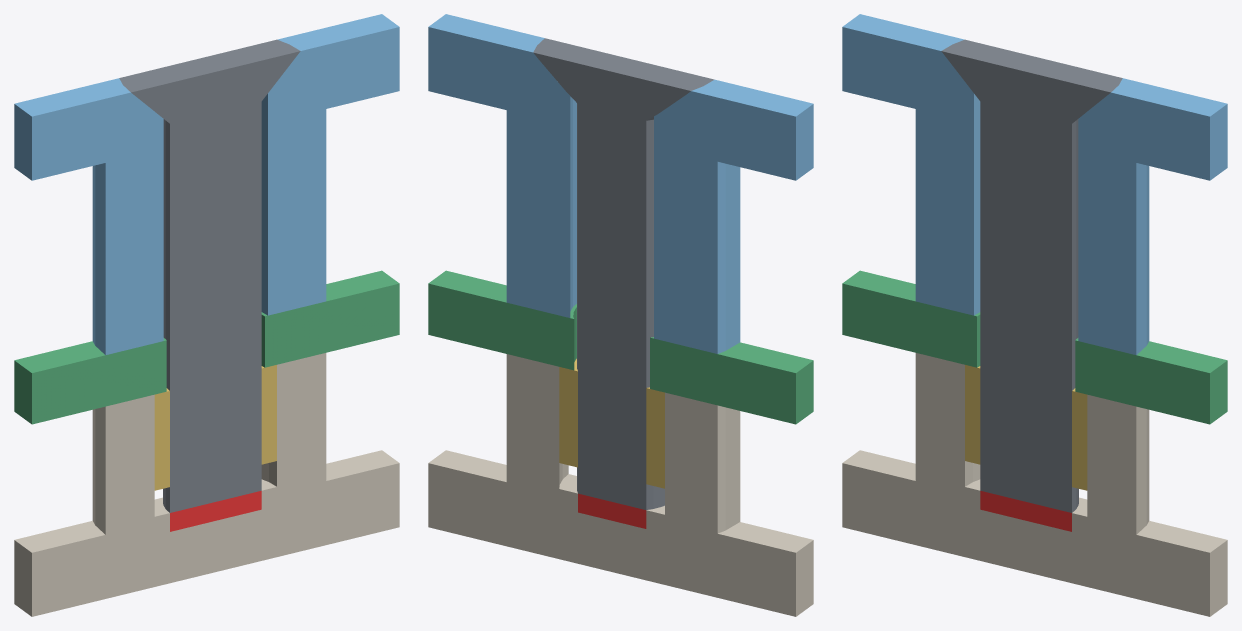
The model's file is countersunk-screw-clears-bore-floor.actual.glb.
3 renders of one model, left to right at view 1: azimuth 30°, elevation 25°; view 2: azimuth 150°, elevation 25°; view 3: azimuth 330°, elevation 25°, orthographic.
Visible parts, largest first — view 1: lid, EN1.H1.screw, base, board, EN1.H1.insert, intersection-highlight; view 2: lid, base, EN1.H1.screw, board, EN1.H1.insert, intersection-highlight; view 3: lid, EN1.H1.screw, base, board, EN1.H1.insert, intersection-highlight.
Part boxes in pixels (x1,y1,x2,y2): lid: (14, 14, 399, 355); EN1.H1.screw: (119, 39, 300, 512); base: (14, 353, 399, 616); board: (14, 270, 399, 424); EN1.H1.insert: (154, 365, 276, 490); intersection-highlight: (170, 491, 261, 531); lid: (428, 14, 813, 353); base: (428, 354, 813, 616); EN1.H1.screw: (533, 38, 714, 509); board: (428, 270, 813, 424); EN1.H1.insert: (559, 358, 664, 488); intersection-highlight: (578, 493, 646, 528); lid: (842, 14, 1227, 355); EN1.H1.screw: (941, 39, 1122, 512); base: (842, 353, 1227, 616); board: (842, 270, 1227, 424); EN1.H1.insert: (965, 365, 1087, 490); intersection-highlight: (980, 491, 1071, 531).
Size of the model in its own units: 12 by 15.6 by 1.
